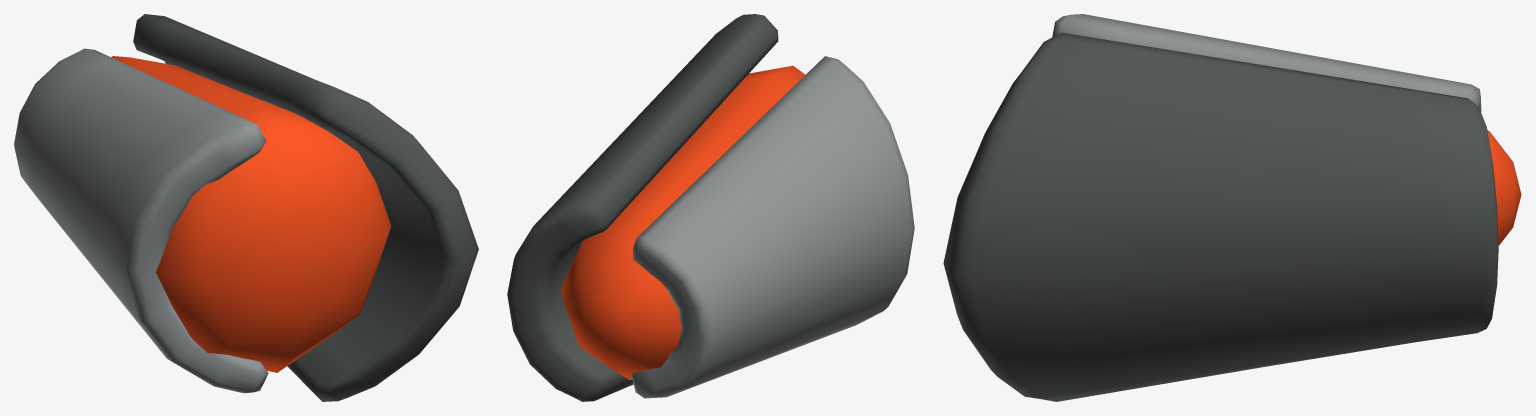
The model's file is xsens_LeftFirstMC.dae.
The picture shows the model from 3 angles, left to right: view 1: azimuth 30°, elevation 25°; view 2: azimuth 150°, elevation 25°; view 3: azimuth 270°, elevation 25°; orthographic projection. The views are drawn at different scales.
Parts seen in each view (by area): view 1: LeftFirstMC; view 2: LeftFirstMC; view 3: LeftFirstMC.
Part boxes in pixels (x1,y1,x2,y2): LeftFirstMC: (14,14,478,401); LeftFirstMC: (507,14,914,401); LeftFirstMC: (943,14,1521,401).
Size of the model in its own units: 0.0287 by 0.0438 by 0.0302.
